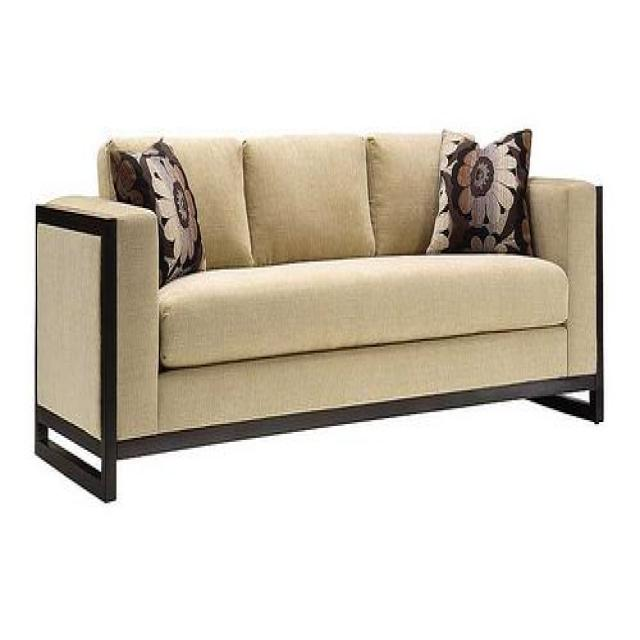sofa: (35, 129, 605, 498)
